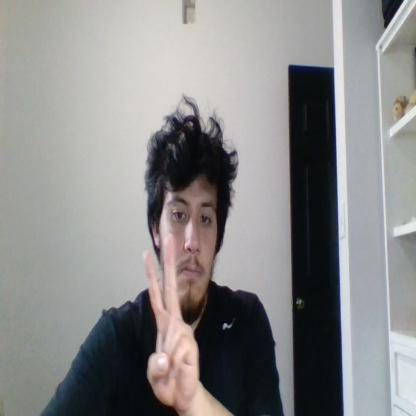V: (143, 233, 199, 408)
